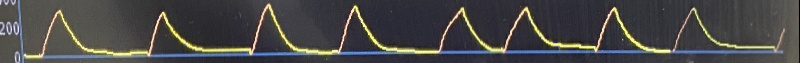normal_volume: (26, 0, 787, 63)
